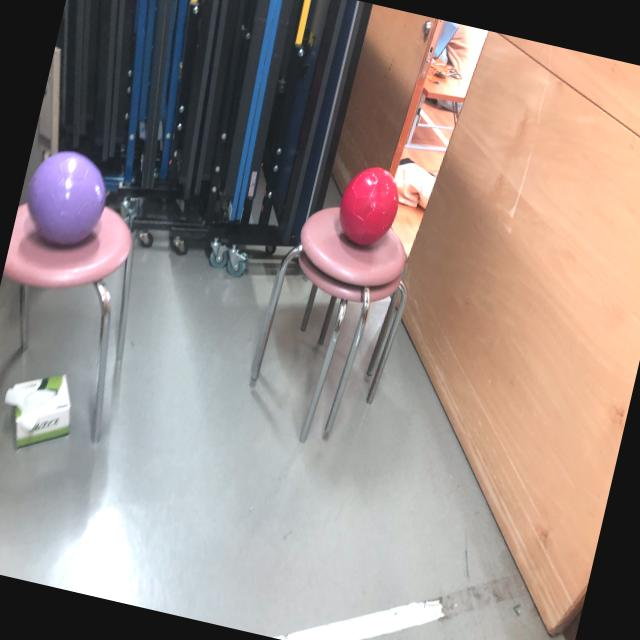purple_ball: (18, 142, 116, 255)
red_ball: (331, 158, 406, 252)
